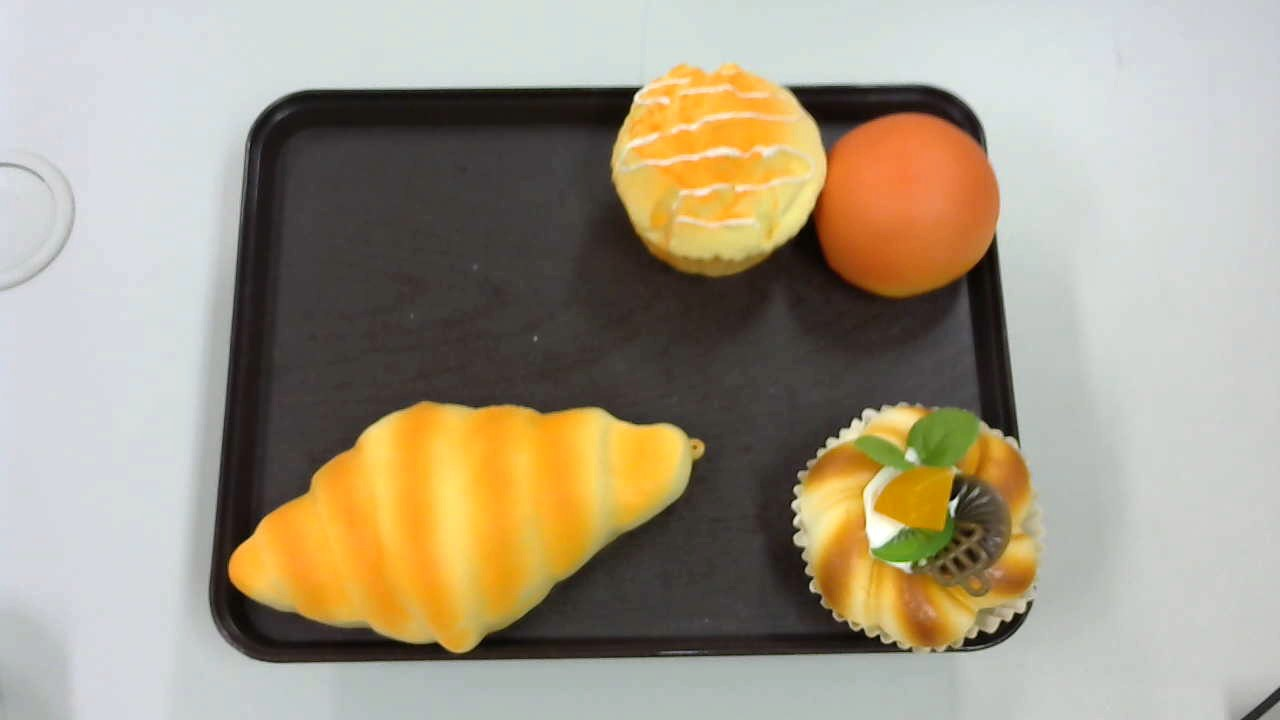bun: (814, 114, 999, 297)
croissant: (225, 400, 708, 656)
cupcake: (611, 62, 828, 278)
fruit tart: (788, 400, 1056, 656)
